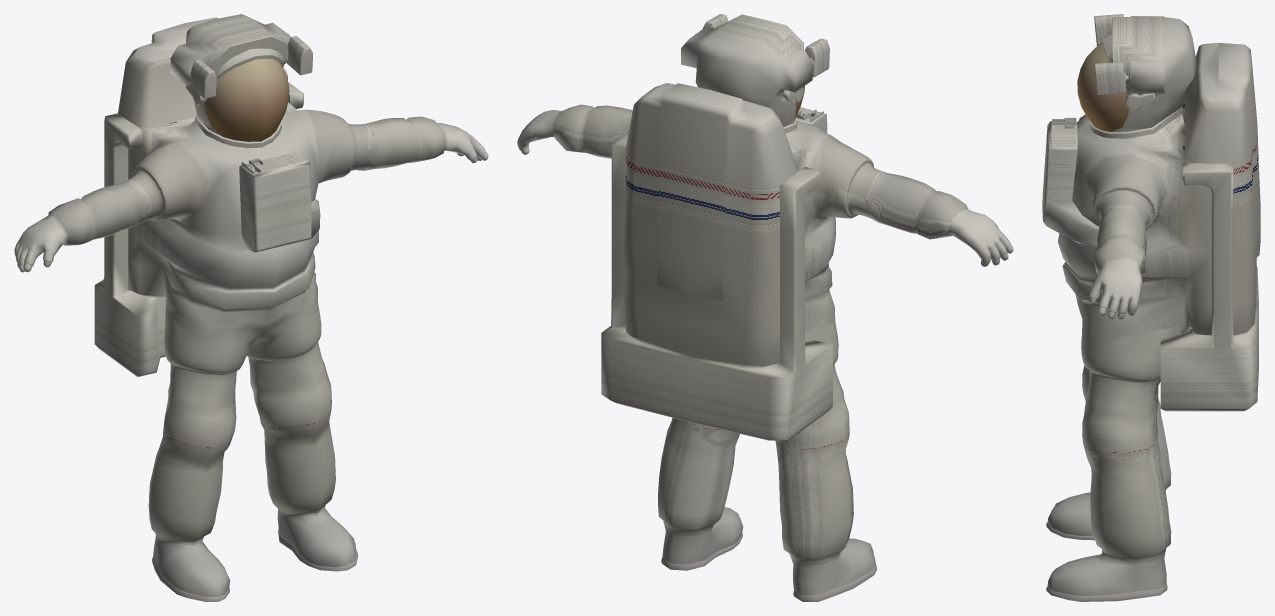
The model's file is astronaut.glb.
3 renders of one model, left to right at view 1: azimuth 30°, elevation 25°; view 2: azimuth 150°, elevation 25°; view 3: azimuth 270°, elevation 25°, orthographic. The views are drawn at different scales.
Visible parts, largest first — view 1: astronaut1; view 2: astronaut1; view 3: astronaut1.
Boxes of the visible parts, <box> form: astronaut1: <box>14,14,488,601</box>; astronaut1: <box>517,14,1013,601</box>; astronaut1: <box>1042,14,1260,601</box>.
Size of the model in its own units: 68.91 by 74.26 by 27.6.
Materials: 2 (2 with a texture image).
